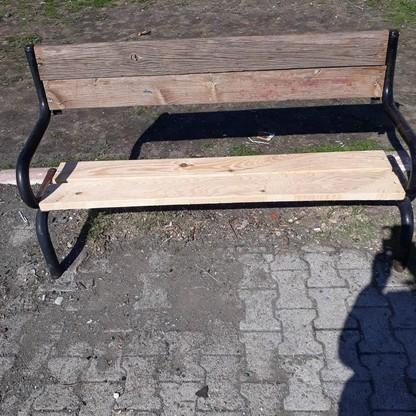obstacle: (16, 27, 406, 304)
